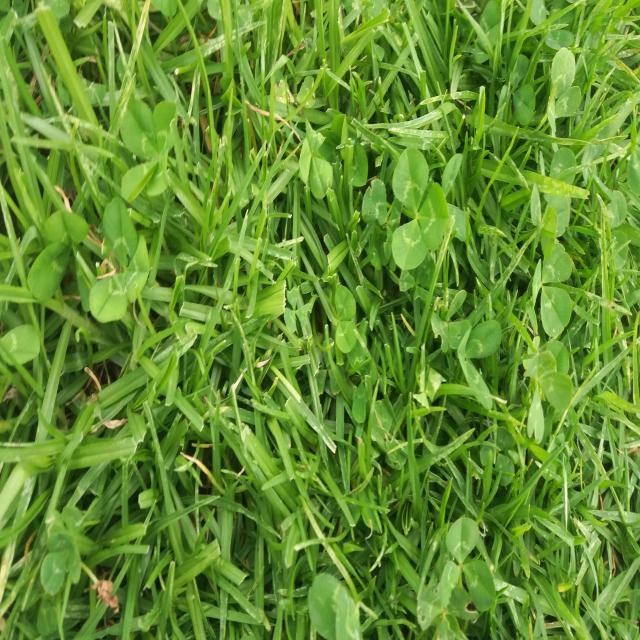Four Leaf Clover: (120, 92, 177, 202)
